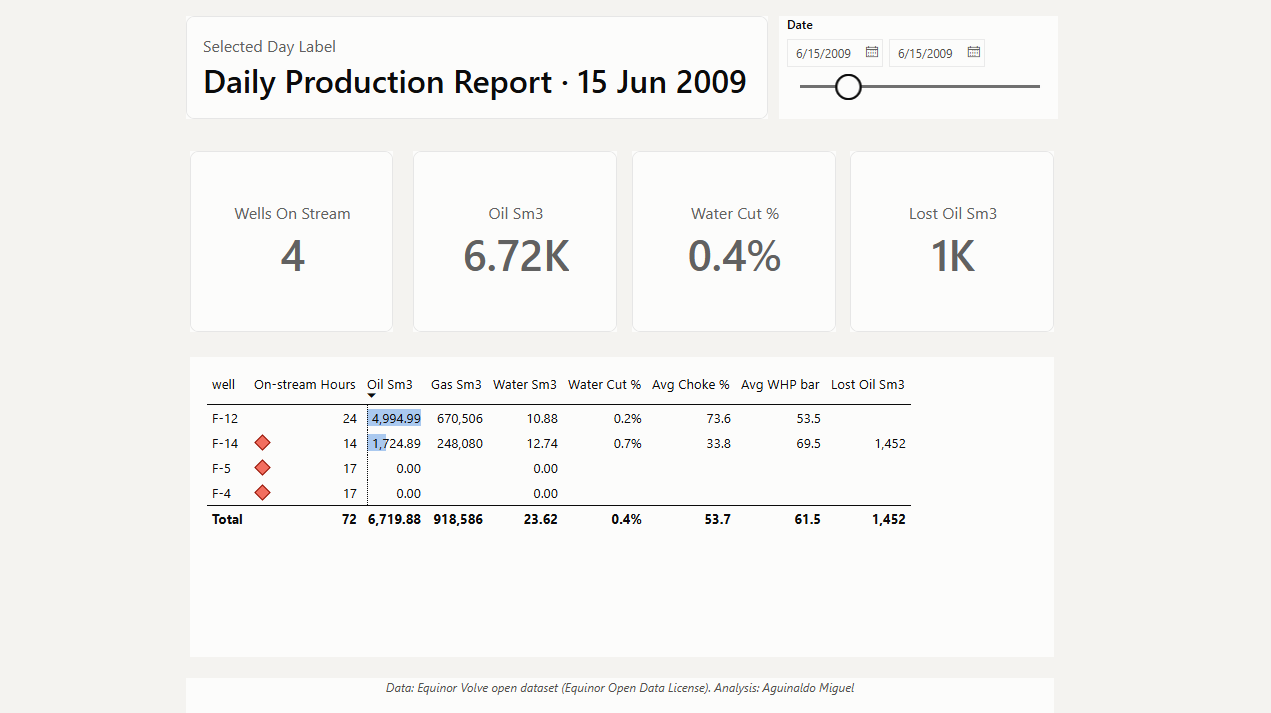

The dashboard page shown, as its layout file describes it:
{"tool":"powerbi","page":{"name":"Daily report","canvas":[1280,720],"ordinal":3},"visuals":[{"type":"slicer","fields":{"Values":["dim_date.Date"]},"box":[781.5,18.6,279.8,103.8],"z":0},{"type":"cardVisual","fields":{"Data":["_Measures.Selected Day Label"]},"box":[189.1,18.6,581.5,103.8],"z":1000},{"type":"cardVisual","fields":{"Data":["_Measures.Wells On Stream"]},"box":[192.7,154.4,203.7,180.7],"z":2000},{"type":"cardVisual","fields":{"Data":["_Measures.Oil Sm3"]},"box":[416.1,154.4,203.7,180.7],"z":3000},{"type":"cardVisual","fields":{"Data":["_Measures.Water Cut %"]},"box":[635.1,154.4,203.7,180.7],"z":4000},{"type":"cardVisual","fields":{"Data":["_Measures.Lost Oil Sm3"]},"box":[853,154.4,203.7,180.7],"z":5000},{"type":"tableEx","fields":{"Values":["dim_well.well","_Measures.On-stream Hours","_Measures.Oil Sm3","_Measures.Gas Sm3","_Measures.Water Sm3","_Measures.Water Cut %","_Measures.Avg Choke %","_Measures.Avg WHP bar","_Measures.Lost Oil Sm3"]},"box":[192.7,360.2,863.9,300],"z":6000},{"type":"textbox","box":[189.4,681.1,867.2,39.4],"z":6001}]}

Visuals, with their boxes in screenshot pixels (x1, y1, x2, y2), scaled from the page's 1280x720 canvas onto the 1271x713 screenshot:
slicer - dim_date.Date: 776 18 1054 121
cardVisual - _Measures.Selected Day Label: 188 18 765 121
cardVisual - _Measures.Wells On Stream: 191 153 394 332
cardVisual - _Measures.Oil Sm3: 413 153 615 332
cardVisual - _Measures.Water Cut %: 631 153 833 332
cardVisual - _Measures.Lost Oil Sm3: 847 153 1049 332
tableEx - dim_well.well x _Measures.On-stream Hours: 191 357 1049 654
textbox: 188 674 1049 712
